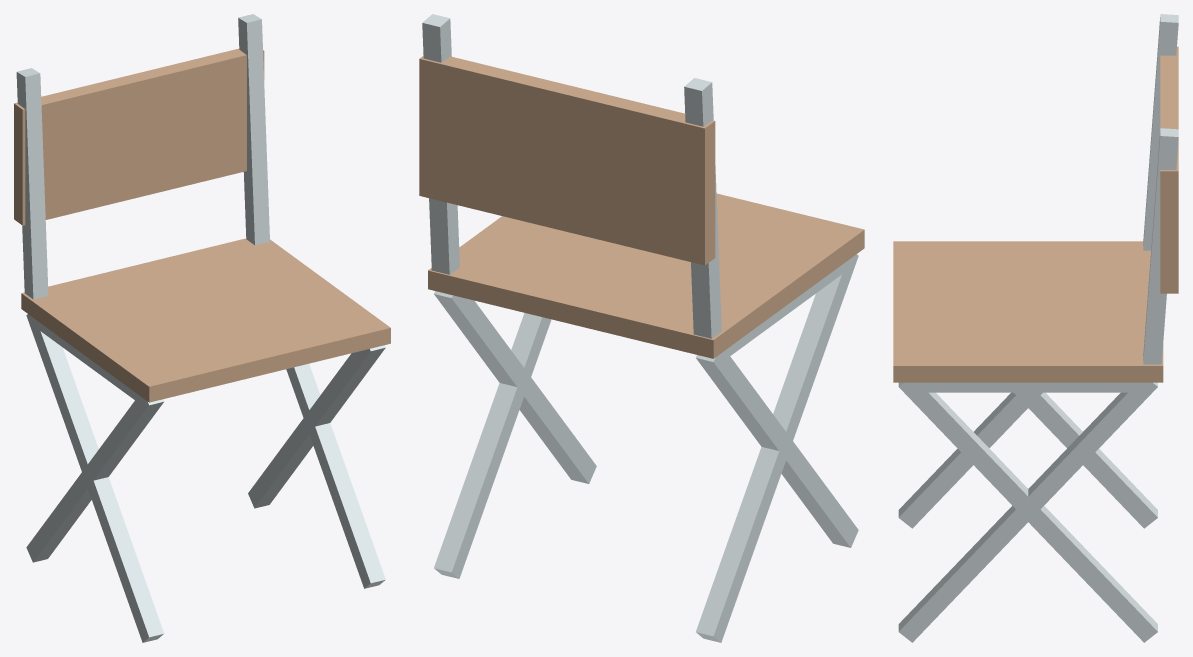
Rendered from chairFolding.glb.
3 views of the same model, side by side, from view 1: azimuth 30°, elevation 25°; view 2: azimuth 150°, elevation 25°; view 3: azimuth 270°, elevation 25° (orthographic). The views are drawn at different scales.
Visible parts, largest first — view 1: chairFolding; view 2: chairFolding; view 3: chairFolding.
Boxes of the visible parts, x1,y1,x2,y2 form: chairFolding: (14,14,390,642); chairFolding: (419,14,864,642); chairFolding: (893,14,1178,642).
Bounding box in the file's own units: 0.24 × 0.4554 × 0.2325.
